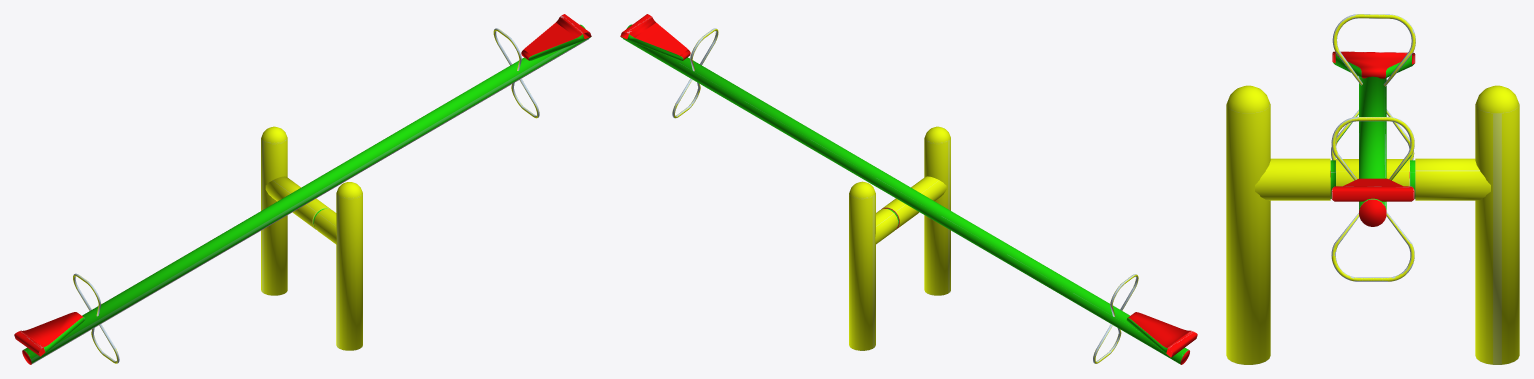
File: SubeBaja.obj
3 views of the same model, side by side, from view 1: azimuth 30°, elevation 25°; view 2: azimuth 150°, elevation 25°; view 3: azimuth 270°, elevation 25° (orthographic). The views are drawn at different scales.
Visible parts, largest first — view 1: Object001, Sphere002, Sphere001, Object003, Object002, Sphere003, Line002, Line003; view 2: Object001, Sphere001, Sphere002, Object003, Object002, Sphere003, Line003, Line002; view 3: Sphere001, Sphere002, Sphere003, Object001, Line003, Object003, Object002, Line002.
Boxes of the visible parts, x1=… form: Object001: x1=22, y1=24, x2=589, y2=364; Sphere002: x1=336, y1=182, x2=362, y2=350; Sphere001: x1=261, y1=126, x2=287, y2=295; Object003: x1=521, y1=14, x2=591, y2=60; Object002: x1=14, y1=312, x2=84, y2=356; Sphere003: x1=265, y1=176, x2=336, y2=244; Line002: x1=73, y1=273, x2=119, y2=363; Line003: x1=493, y1=28, x2=539, y2=118; Object001: x1=623, y1=24, x2=1189, y2=364; Sphere001: x1=849, y1=181, x2=875, y2=350; Sphere002: x1=924, y1=126, x2=950, y2=295; Object003: x1=620, y1=14, x2=690, y2=60; Object002: x1=1126, y1=312, x2=1197, y2=357; Sphere003: x1=875, y1=176, x2=946, y2=244; Line003: x1=672, y1=28, x2=718, y2=118; Line002: x1=1093, y1=274, x2=1138, y2=363; Sphere001: x1=1475, y1=85, x2=1519, y2=364; Sphere002: x1=1226, y1=85, x2=1270, y2=364; Sphere003: x1=1255, y1=158, x2=1490, y2=200; Object001: x1=1330, y1=76, x2=1415, y2=226; Line003: x1=1331, y1=117, x2=1414, y2=281; Object003: x1=1331, y1=178, x2=1414, y2=201; Object002: x1=1332, y1=51, x2=1415, y2=78; Line002: x1=1331, y1=14, x2=1415, y2=160.
Bounding box in the file's own units: 393 × 159 × 107.
Materials: 5 (5 with a texture image).
